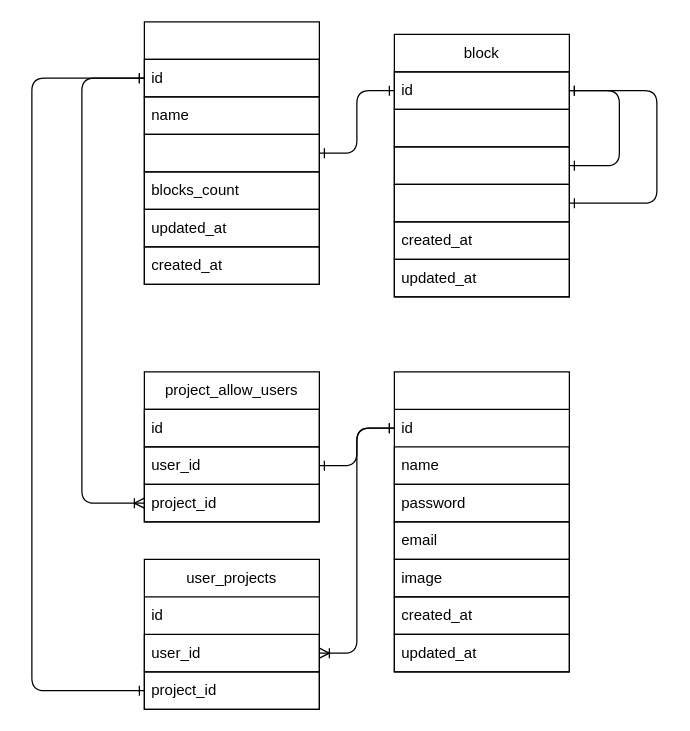
The diagram is 690 pixels wide and 731 high, and some of its shapes have lost their labels. Here are the shapes that lost their labels. From the top down, the box of each, then its label:
(393, 108, 569, 147): contents
(143, 133, 319, 172): first_block_id
(143, 21, 319, 284): project
(393, 146, 569, 184): before_block_id
(393, 183, 569, 222): after_block_id
(393, 371, 569, 672): user
